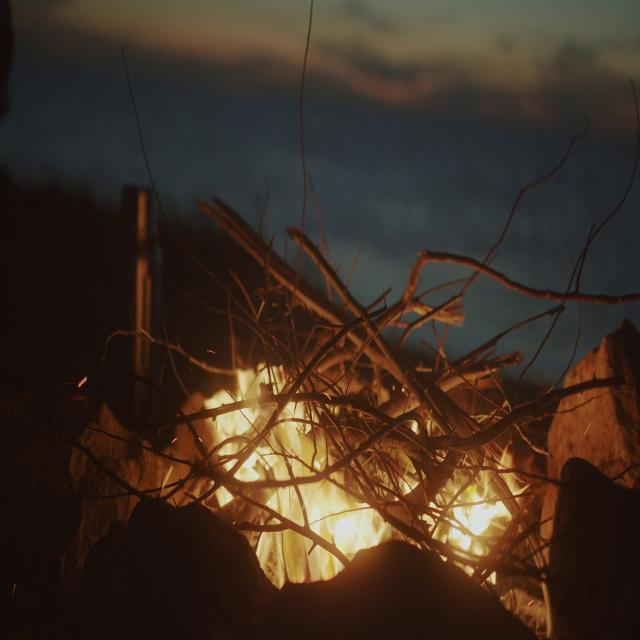Fire: (196, 356, 502, 586)
